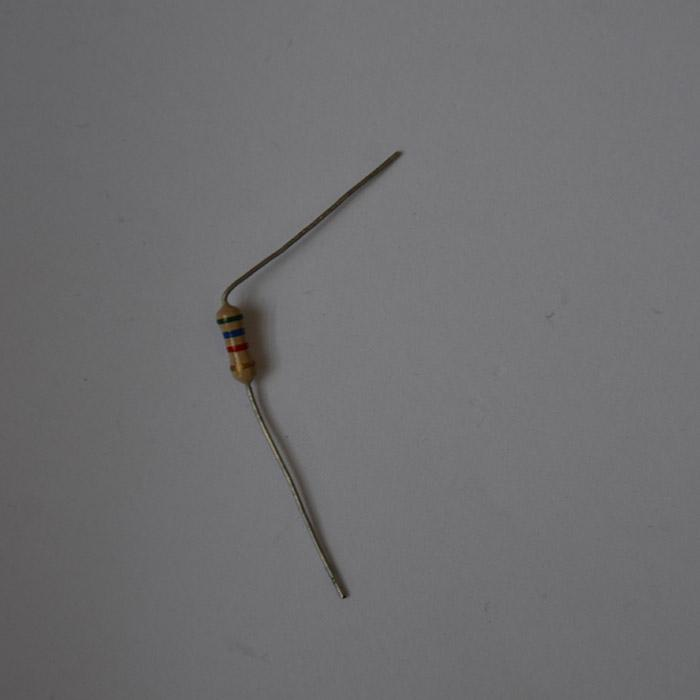resistor: (216, 303, 255, 384)
